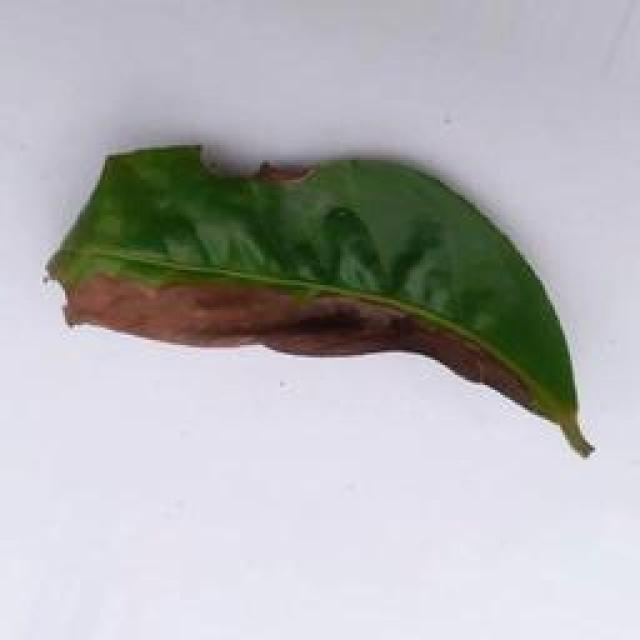Brown Blight: (33, 123, 597, 464)
